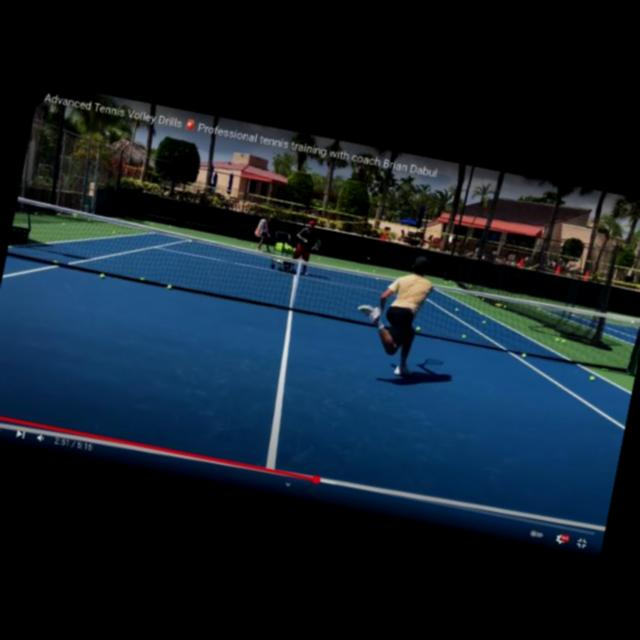tennis-ball: (416, 326, 422, 332), (590, 376, 596, 382), (520, 353, 526, 358), (167, 284, 172, 289), (99, 273, 104, 278)
